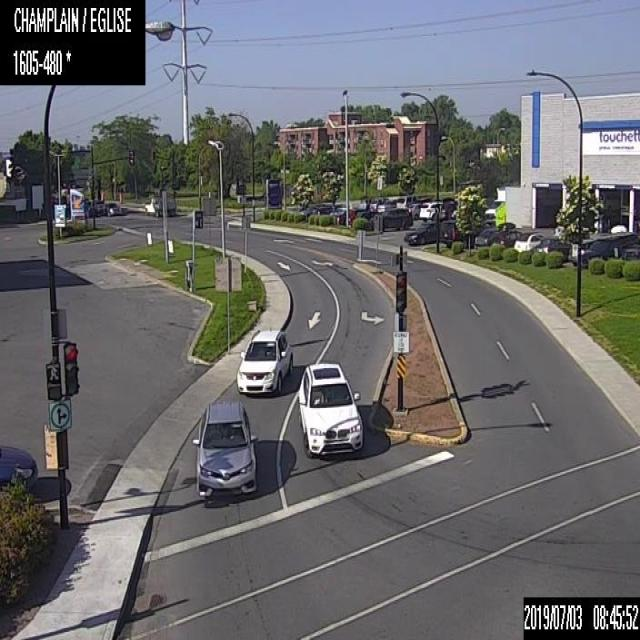vehicle: (295, 359, 363, 456), (190, 400, 257, 496), (234, 326, 294, 394), (580, 238, 621, 266), (370, 207, 412, 230), (403, 220, 441, 244), (440, 219, 474, 245), (533, 237, 571, 260), (144, 192, 177, 216), (568, 238, 594, 265), (513, 231, 544, 252), (418, 201, 446, 220), (493, 229, 521, 247), (474, 226, 498, 245), (330, 207, 354, 222), (306, 204, 332, 217), (622, 241, 639, 259), (395, 194, 416, 207), (376, 198, 394, 212), (355, 210, 378, 220), (102, 202, 121, 214), (297, 205, 313, 219), (407, 202, 421, 218), (357, 197, 370, 209), (369, 198, 380, 210), (94, 199, 104, 210)
